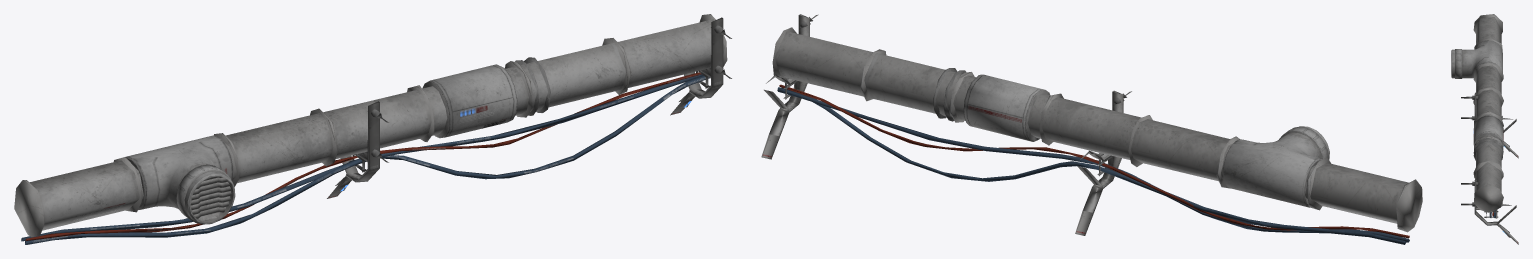
Rendered from pipe.fbx.
3 renders of one model, left to right at view 1: azimuth 30°, elevation 25°; view 2: azimuth 150°, elevation 25°; view 3: azimuth 270°, elevation 25°, orthographic. The views are drawn at different scales.
Visible parts, largest first — view 1: SF_AP04_F_001_001; view 2: SF_AP04_F_001_001; view 3: SF_AP04_F_001_001.
Part boxes in pixels (x1,y1,x2,y2): SF_AP04_F_001_001: (14, 14, 731, 244); SF_AP04_F_001_001: (761, 14, 1422, 244); SF_AP04_F_001_001: (1451, 14, 1518, 244).
Bounding box in the file's own units: 900 × 157 × 149.
Materials: 2 (2 with a texture image).
